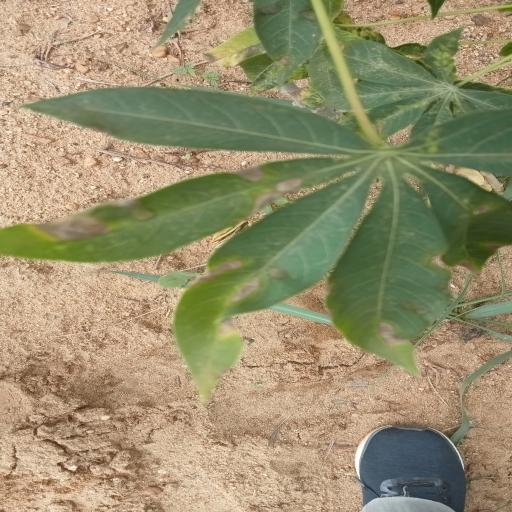Cassava_Brown_Leaf_Spot: (3, 77, 512, 403)
